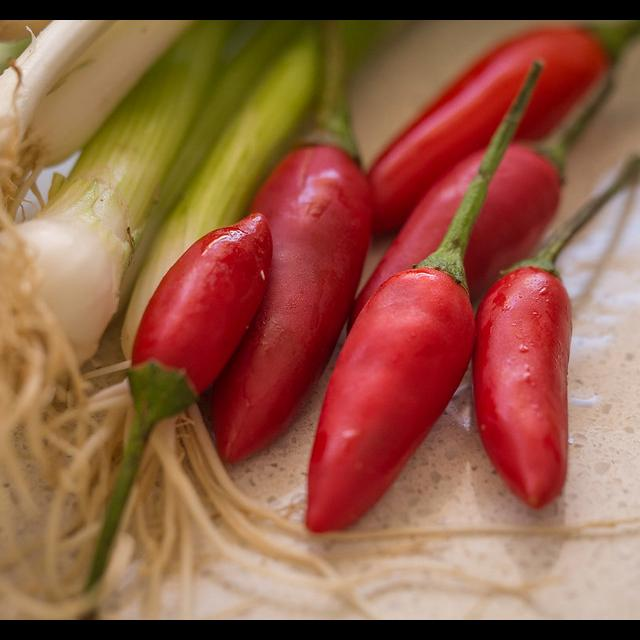green_onion: (0, 20, 363, 616)
